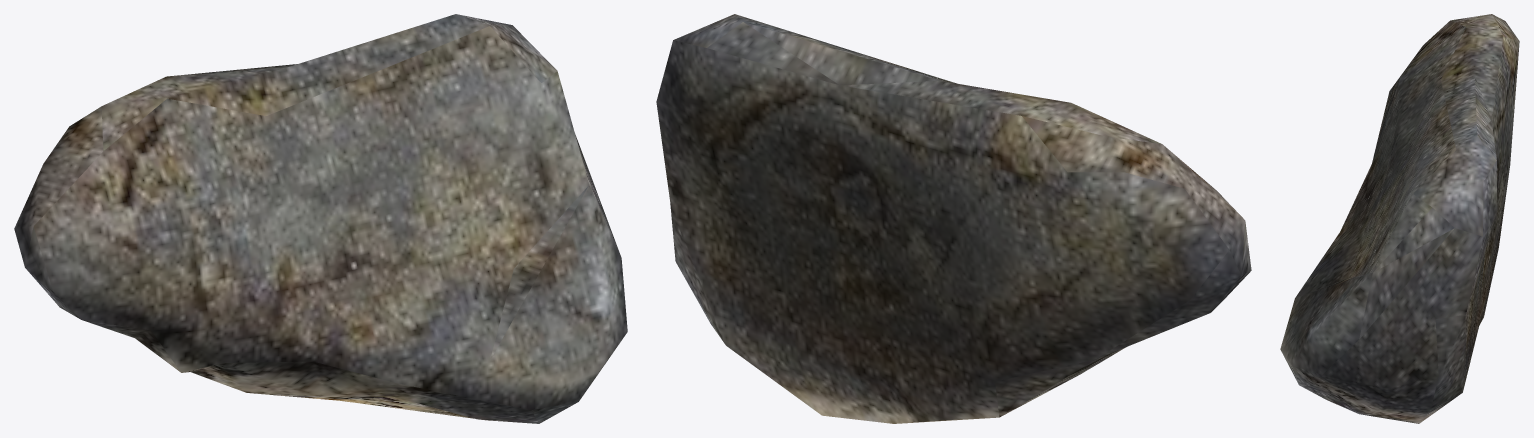
3 renders of one model, left to right at view 1: azimuth 30°, elevation 25°; view 2: azimuth 150°, elevation 25°; view 3: azimuth 270°, elevation 25°, orthographic. The views are drawn at different scales.
Parts seen in each view (by area): view 1: rock072_lod4; view 2: rock072_lod4; view 3: rock072_lod4.
Part boxes in pixels (bbox=[...]): rock072_lod4: bbox=[14, 14, 627, 423]; rock072_lod4: bbox=[656, 14, 1251, 423]; rock072_lod4: bbox=[1280, 14, 1519, 423].
Bounding box in the file's own units: 1 × 0.644 × 0.4843.
1 material, 1 textured.
